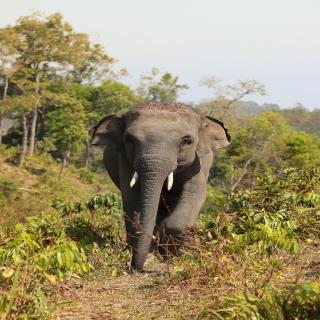Elephant: (83, 98, 239, 274)
